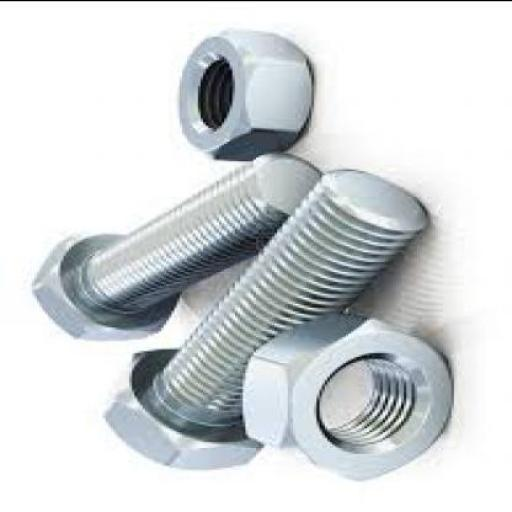metal: (100, 172, 428, 470), (32, 154, 320, 342), (240, 314, 449, 484), (174, 30, 312, 162)
